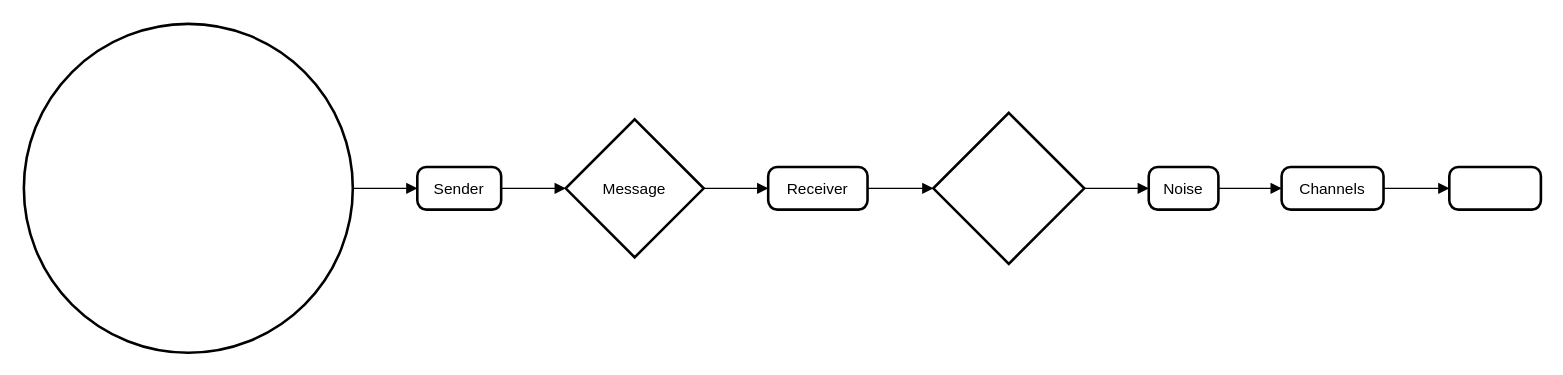
Some shapes in this 1563 by 375 pixel diagram are drawn without their labels. The shapes that lost their labels are listed below. From the top down, each one's centre as x and y in pixels, then its label:
the point at 187,187: Main Elements of Communication
the point at 1008,187: Feedback
the point at 1494,187: Context
